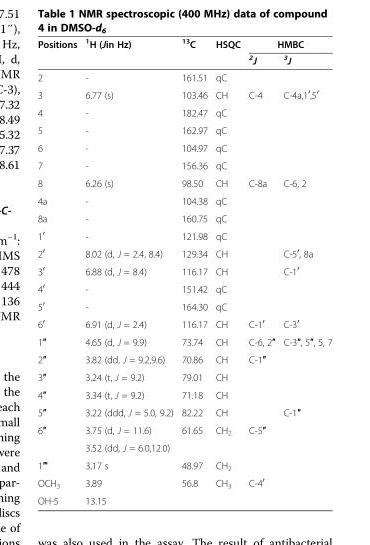table: (36, 36, 331, 506)
table column: (80, 36, 176, 506), (278, 36, 331, 506), (36, 36, 80, 506), (243, 36, 278, 506), (176, 36, 210, 506), (210, 36, 243, 506)
table column header: (36, 36, 331, 68)
table row: (36, 85, 331, 103), (36, 103, 331, 121), (36, 138, 331, 156), (36, 156, 331, 174), (36, 191, 331, 209), (36, 226, 331, 244), (36, 261, 331, 279), (36, 279, 331, 297), (36, 314, 331, 332), (36, 332, 331, 350), (36, 350, 331, 368), (36, 385, 331, 403), (36, 403, 331, 421), (36, 438, 331, 456), (36, 473, 331, 491), (36, 51, 331, 68), (36, 68, 331, 85), (36, 121, 331, 138), (36, 174, 331, 191), (36, 209, 331, 226), (36, 244, 331, 261), (36, 297, 331, 314), (36, 368, 331, 385), (36, 421, 331, 438), (36, 456, 331, 473), (36, 36, 331, 51), (36, 491, 331, 506)
table spanning cell: (80, 36, 176, 68), (36, 421, 80, 456), (36, 36, 80, 68), (243, 36, 331, 51), (243, 421, 278, 456), (176, 421, 210, 456), (210, 421, 243, 456), (176, 36, 210, 68), (210, 36, 243, 68)
